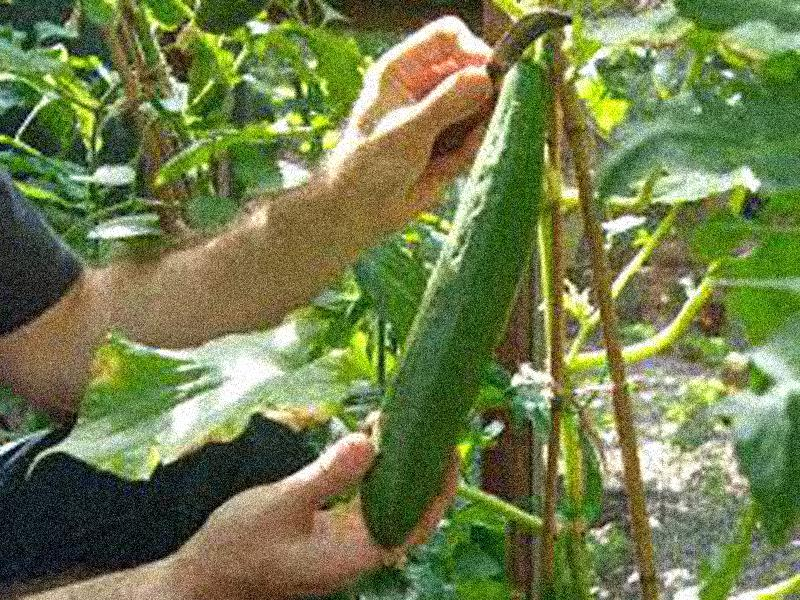Cucumber: (362, 62, 550, 547)
